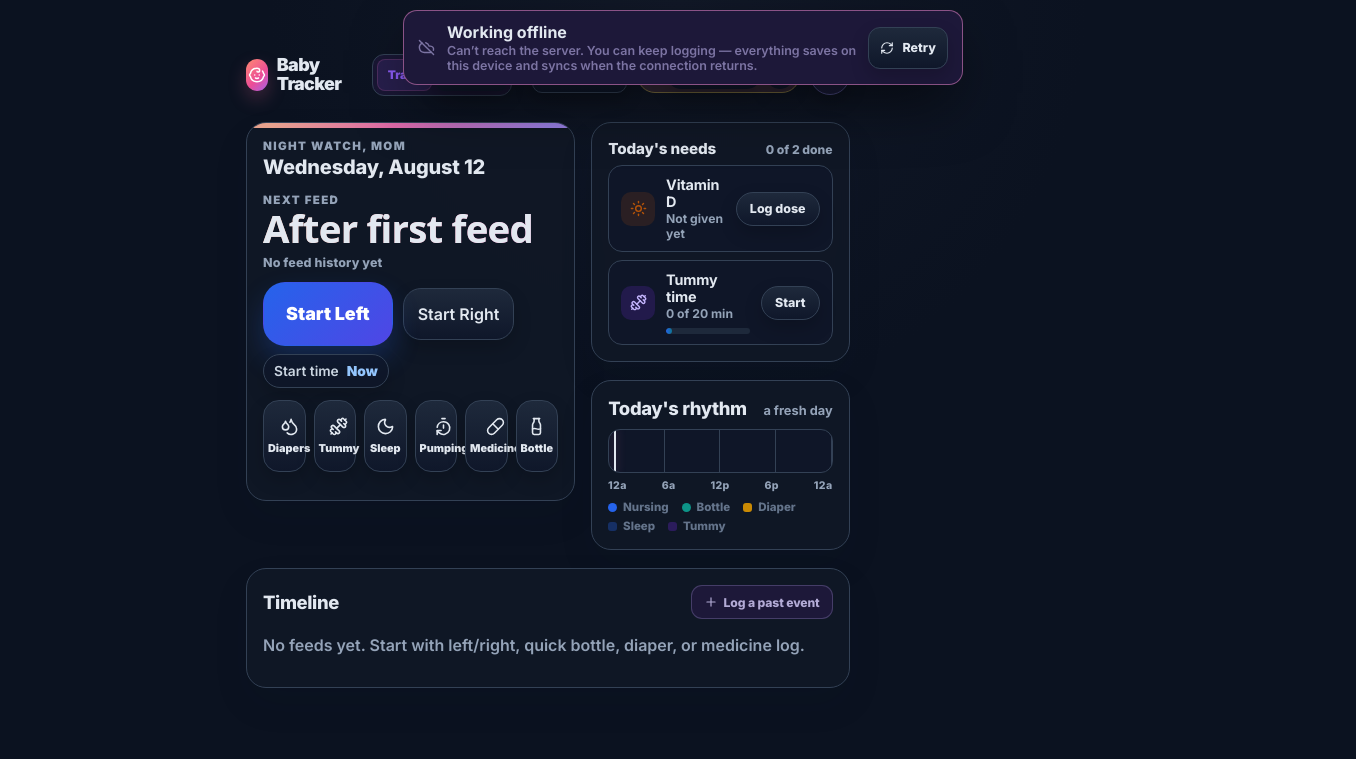
Test: caregiver today brief › tracks vitamin D as a need and completes it from the one-tap log
The image size is (1366, 759).
Expected: the text "Not given yet" is shown, [666, 211, 725, 241]
Click the button with aria-label "Log Vitamin D dose" at {"x": 778, "y": 208}, box [736, 192, 820, 226]
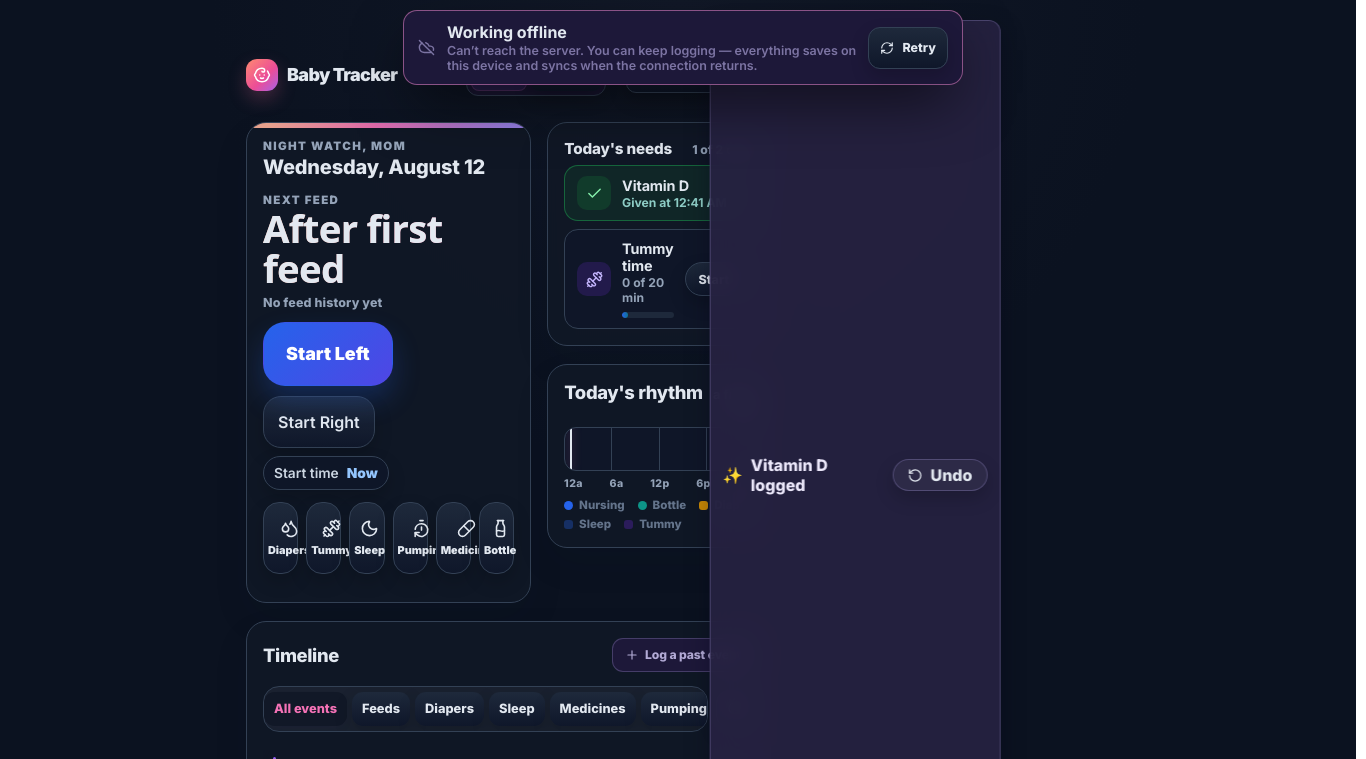
Expected: the text "Given at 12:41 AM" is shown, [622, 194, 743, 210]
